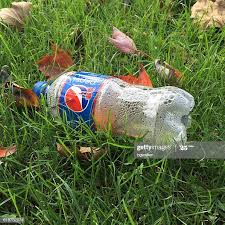plastic_bottle: (32, 72, 193, 148)
